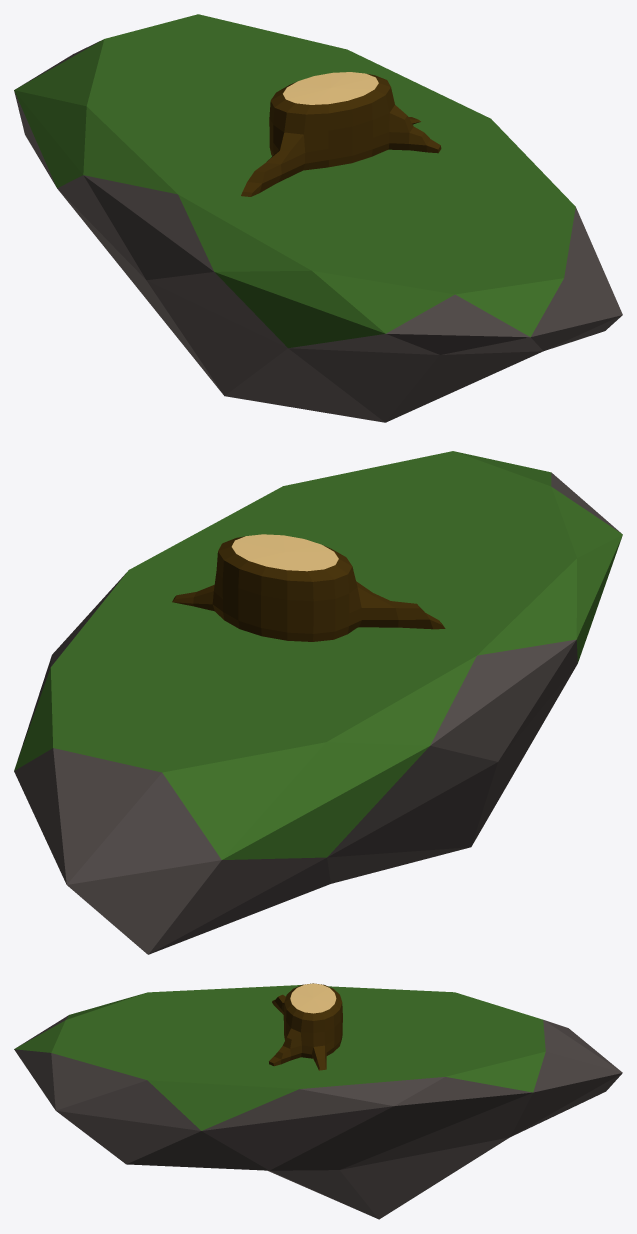
The model's file is forestvault.fbx.
The picture shows the model from 3 angles, top to bottom: view 1: azimuth 30°, elevation 25°; view 2: azimuth 150°, elevation 25°; view 3: azimuth 270°, elevation 25°; orthographic projection. The views are drawn at different scales.
Visible parts, largest first — view 1: Icosphere; view 2: Icosphere; view 3: Icosphere.
Part boxes in pixels (x1=…): Icosphere: x1=14, y1=14, x2=622, y2=422; Icosphere: x1=14, y1=451, x2=622, y2=954; Icosphere: x1=14, y1=983, x2=622, y2=1219.
Bounding box in the file's own units: 687 × 563 × 1493.
